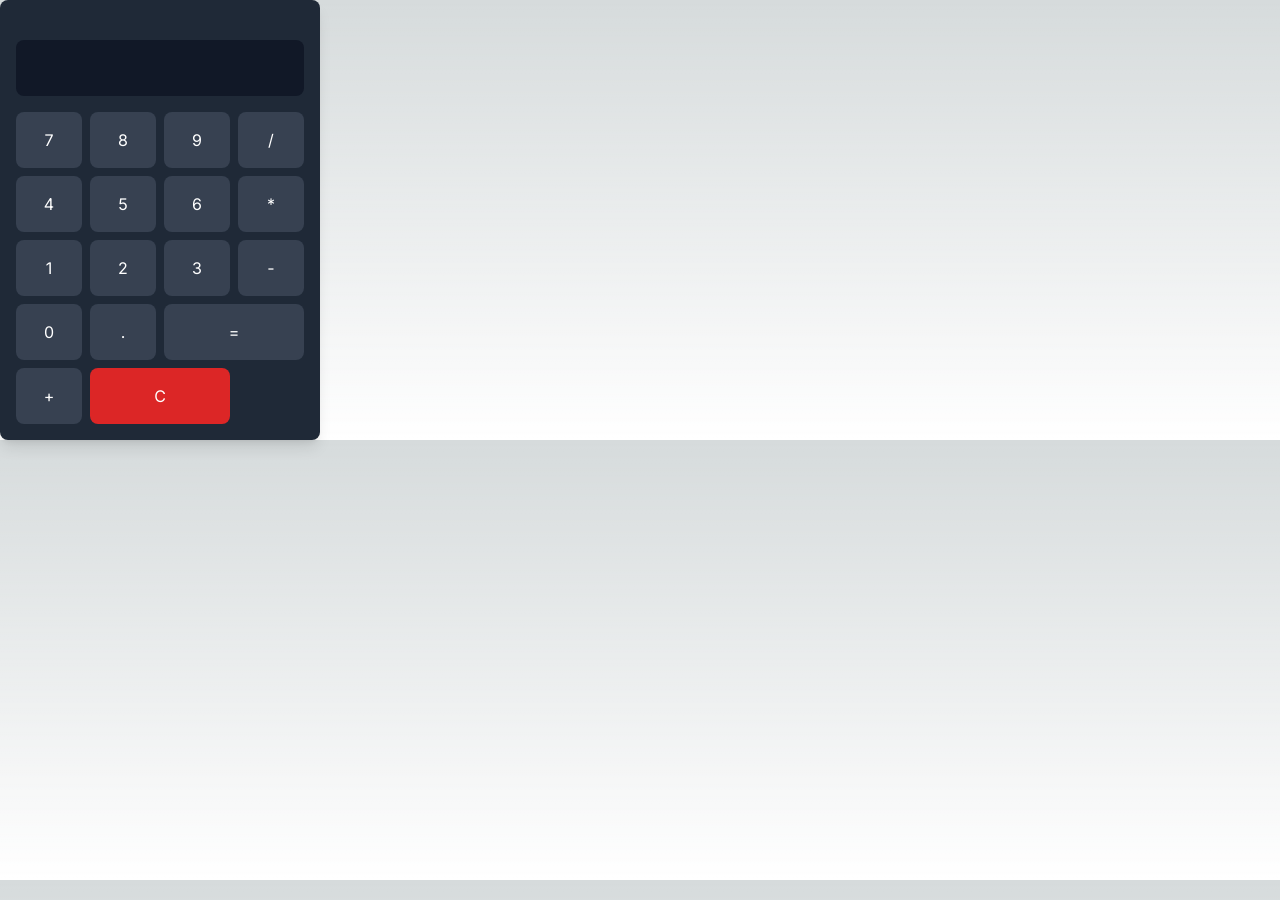
Test: Calculator › should evaluate expression correctly when equal button is clicked
The image size is (1280, 900).
Click the button "1" at [49, 268], box [16, 240, 82, 296]
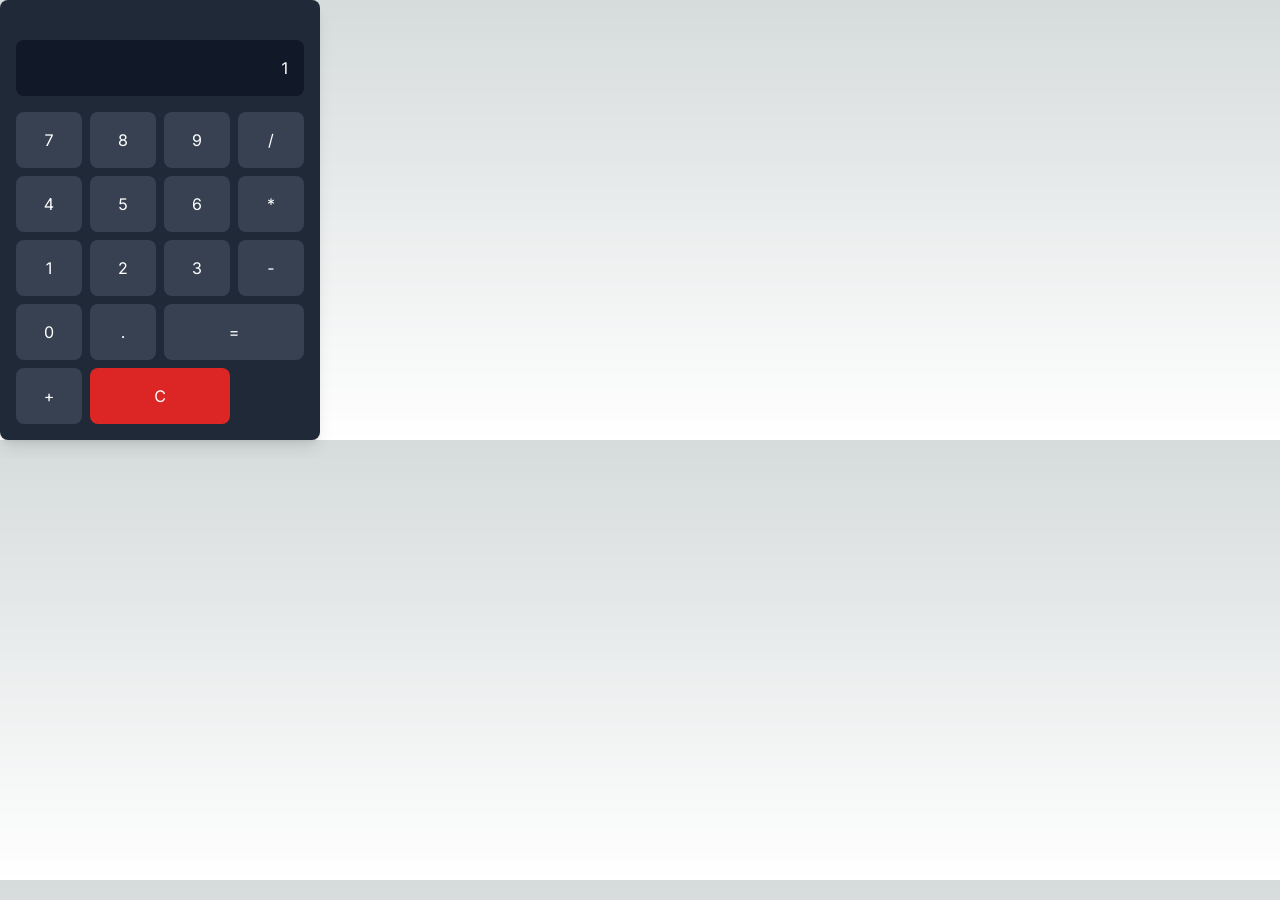
Click the button "+" at [49, 396], box [16, 368, 82, 424]
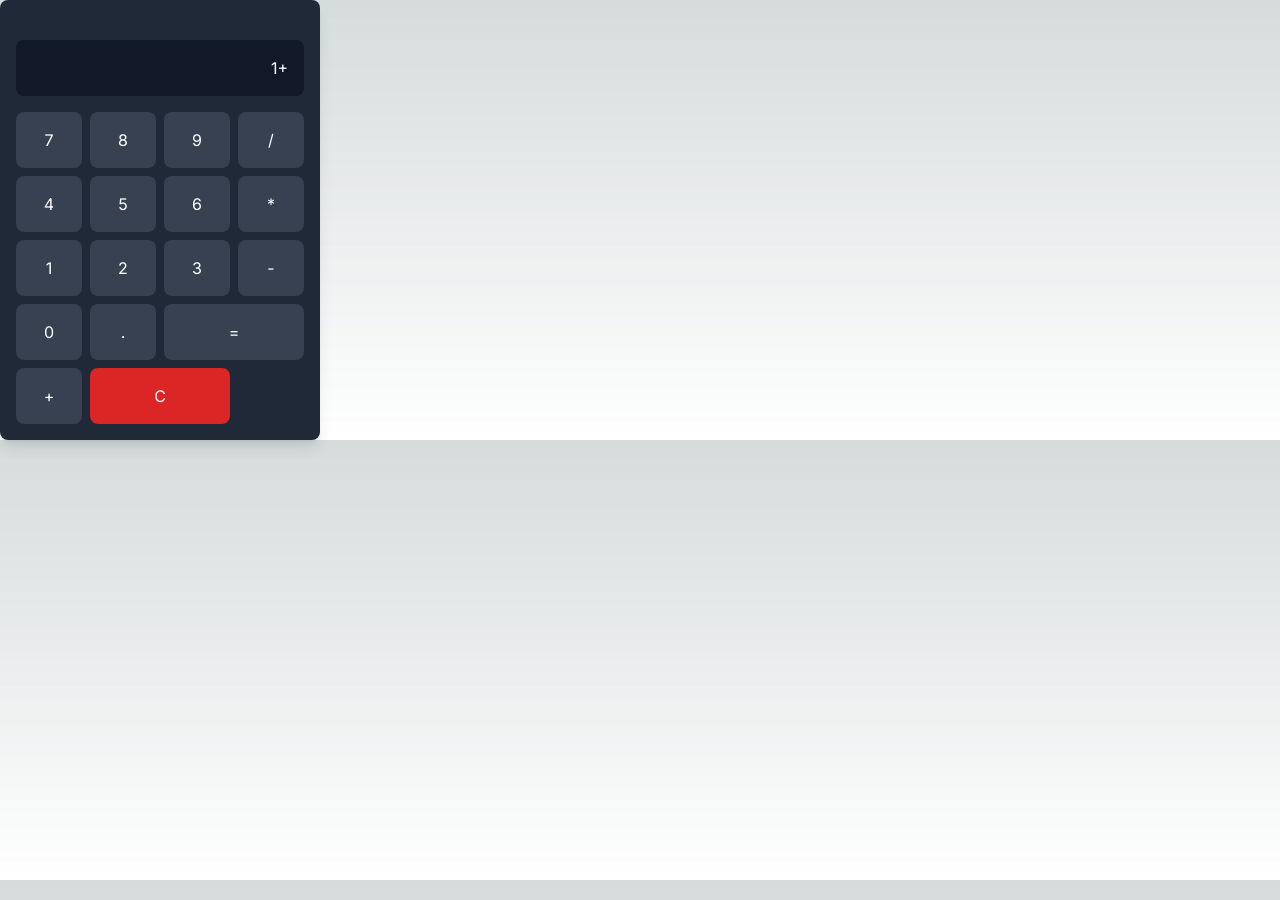
Click the button "2" at [123, 268], box [90, 240, 156, 296]
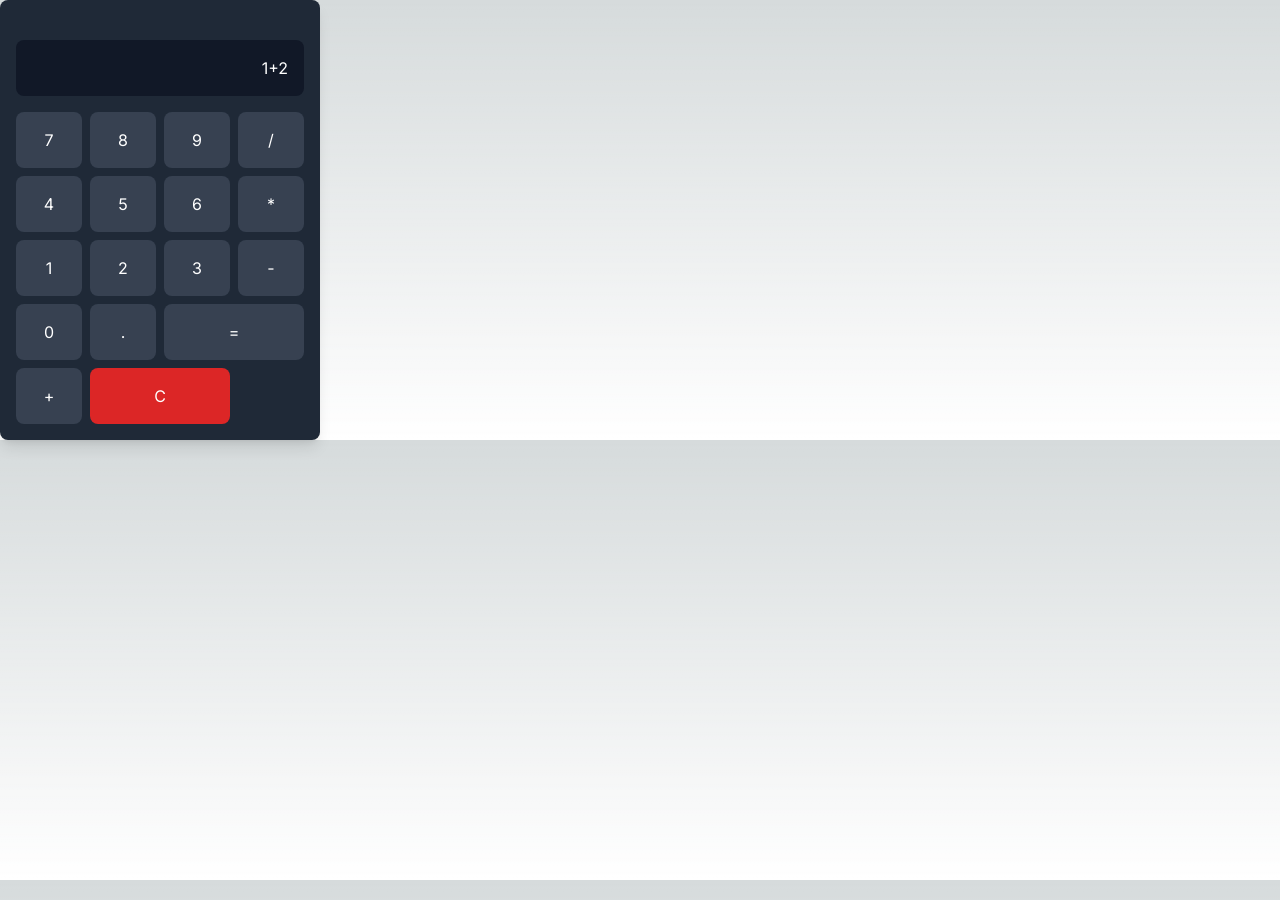
Click the button "=" at [234, 332], box [164, 304, 304, 360]
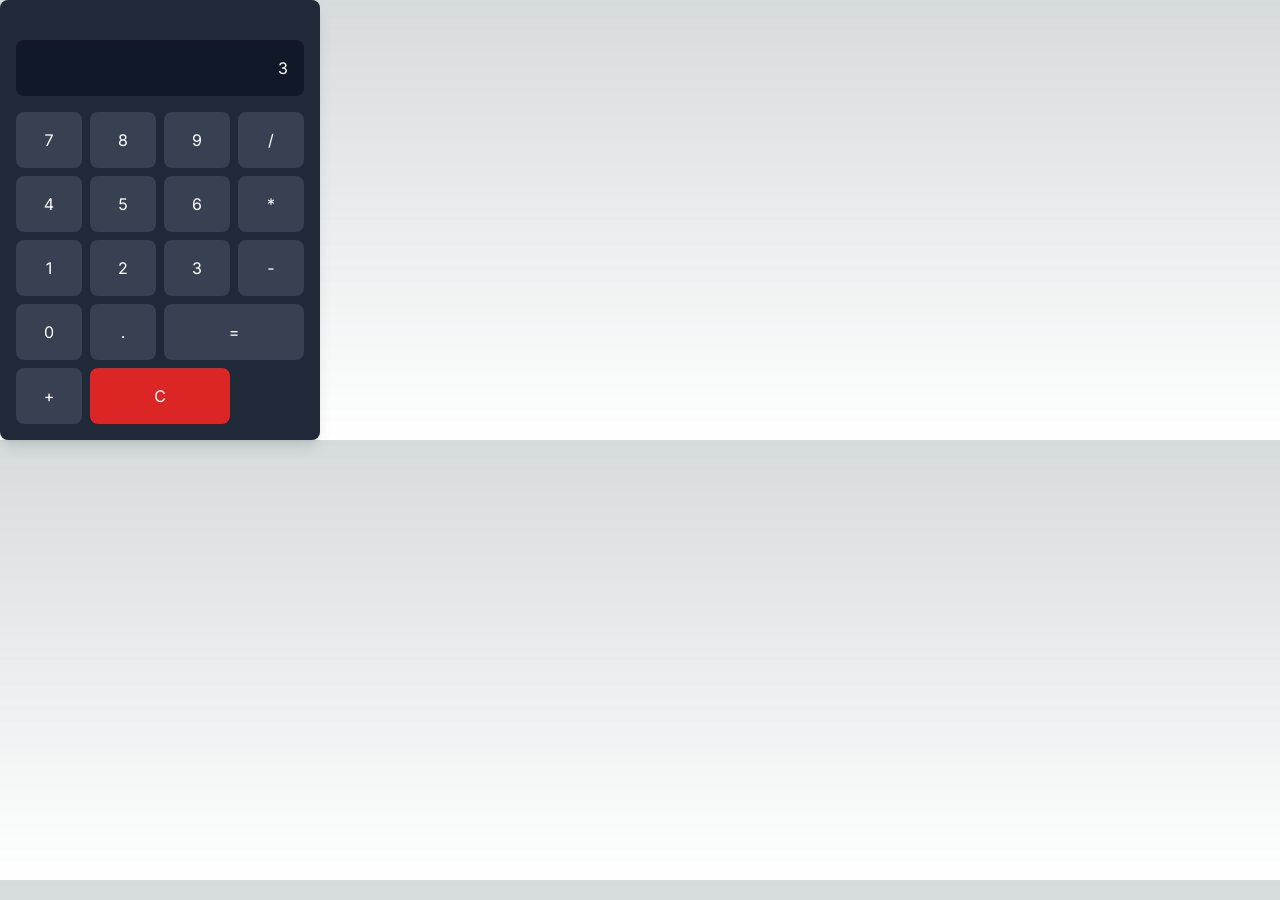
Now the text with test id "calc-result" reads "3", box [278, 58, 288, 78]
